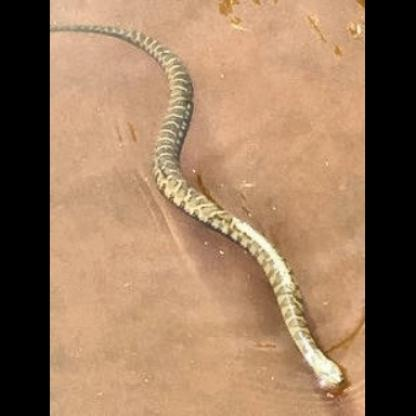Snake: (125, 6, 345, 400)
